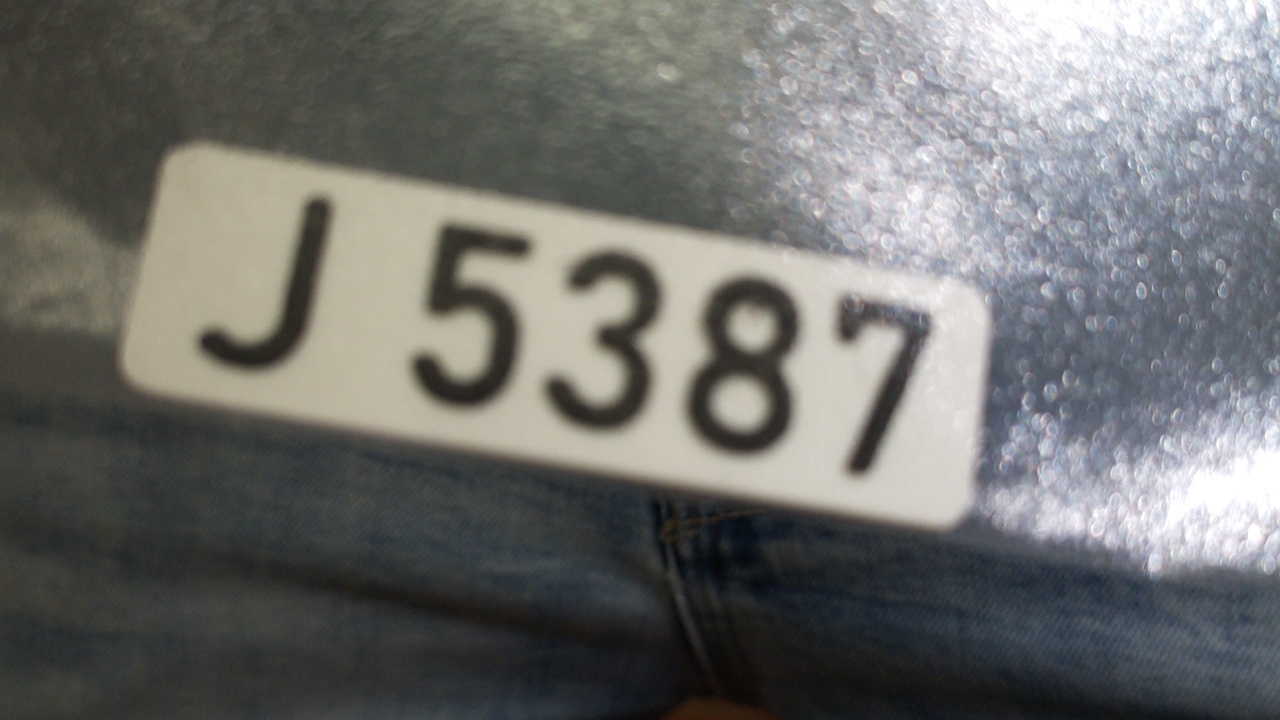license_plate: (113, 131, 999, 538)
